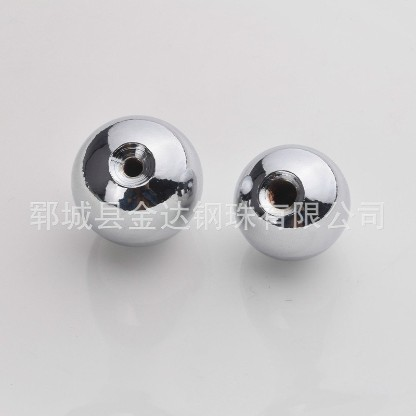ironball: (70, 114, 203, 247), (232, 143, 350, 261)
